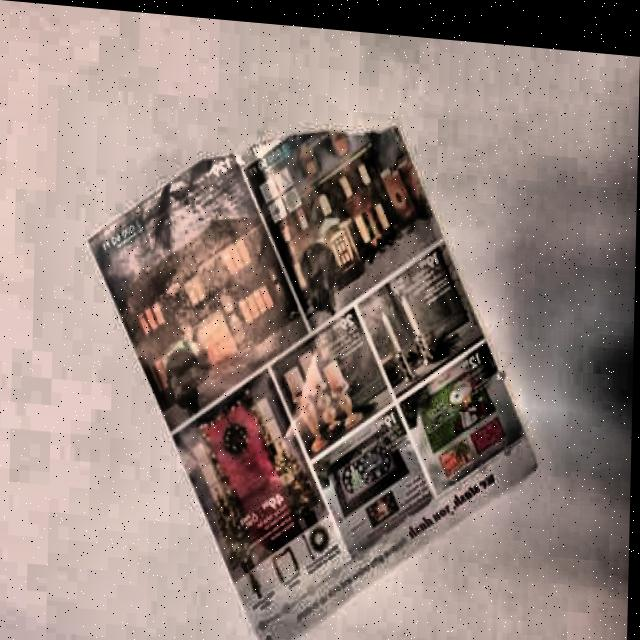paper: (80, 99, 548, 640)
